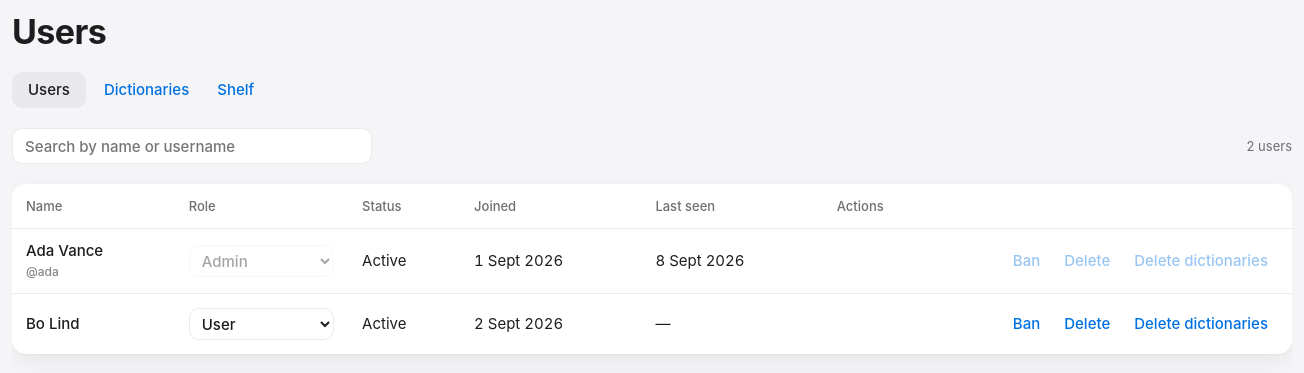
AdminScreen — dictionaries tab › lists the dictionaries waiting for review
The image size is (1304, 373).
Step 1. Click the button "Dictionaries" → (147, 90), box [94, 72, 199, 108]
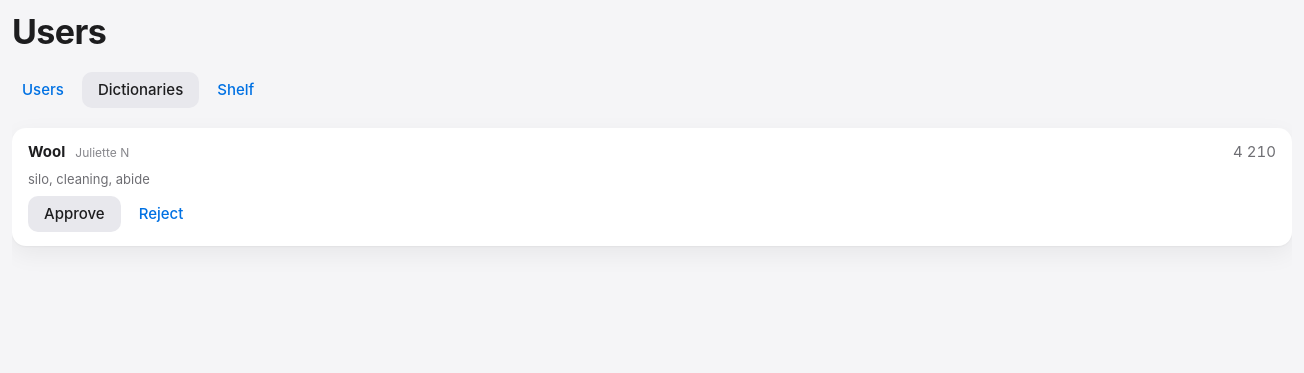
Expected: the text "Wool" is shown, [28, 142, 65, 162]
Expected: the text "Juliette N" is shown, [75, 145, 129, 161]
Expected: the text "silo" is shown, [28, 171, 150, 187]
